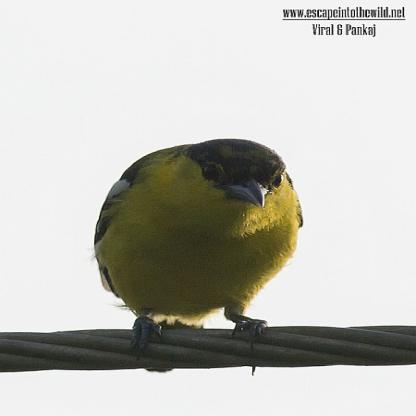Burung: (93, 138, 302, 356)
